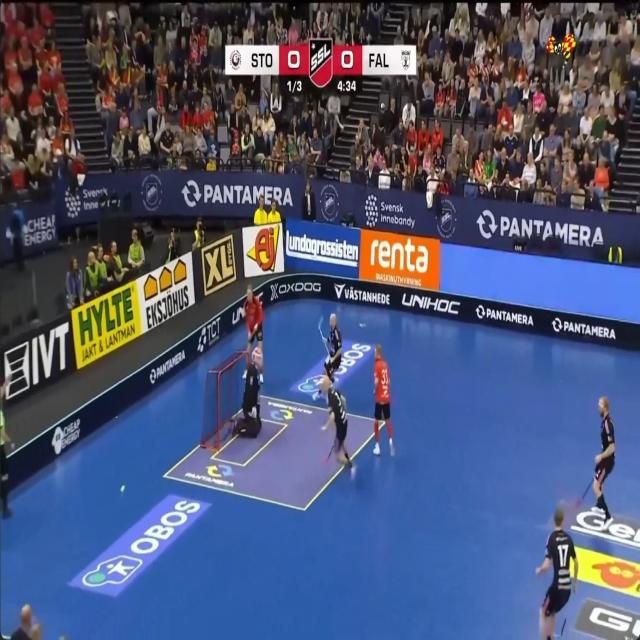Balls: (120, 485, 125, 494)
player: (536, 506, 578, 639), (320, 376, 355, 477), (592, 396, 615, 527), (373, 344, 394, 455), (244, 284, 264, 368), (325, 314, 342, 382), (312, 390, 321, 399), (258, 366, 263, 382), (243, 370, 246, 378)
stick: (318, 317, 330, 355), (576, 480, 592, 507), (321, 410, 333, 430), (325, 442, 334, 463), (559, 618, 566, 636), (317, 316, 322, 333)
